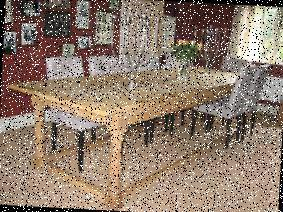Mesa: (1, 58, 253, 211)
Silla: (38, 57, 131, 176), (84, 54, 156, 155), (185, 62, 257, 151), (206, 60, 272, 145), (158, 54, 219, 136)
